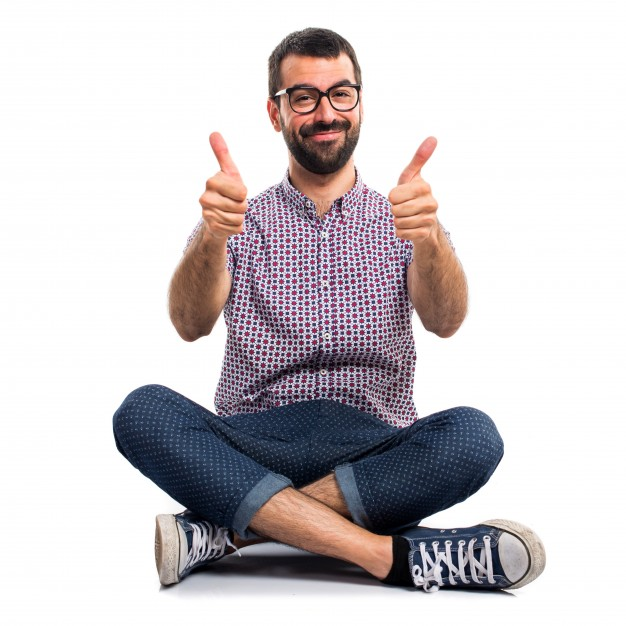thumbsup: (389, 136, 439, 240), (198, 131, 247, 235)
